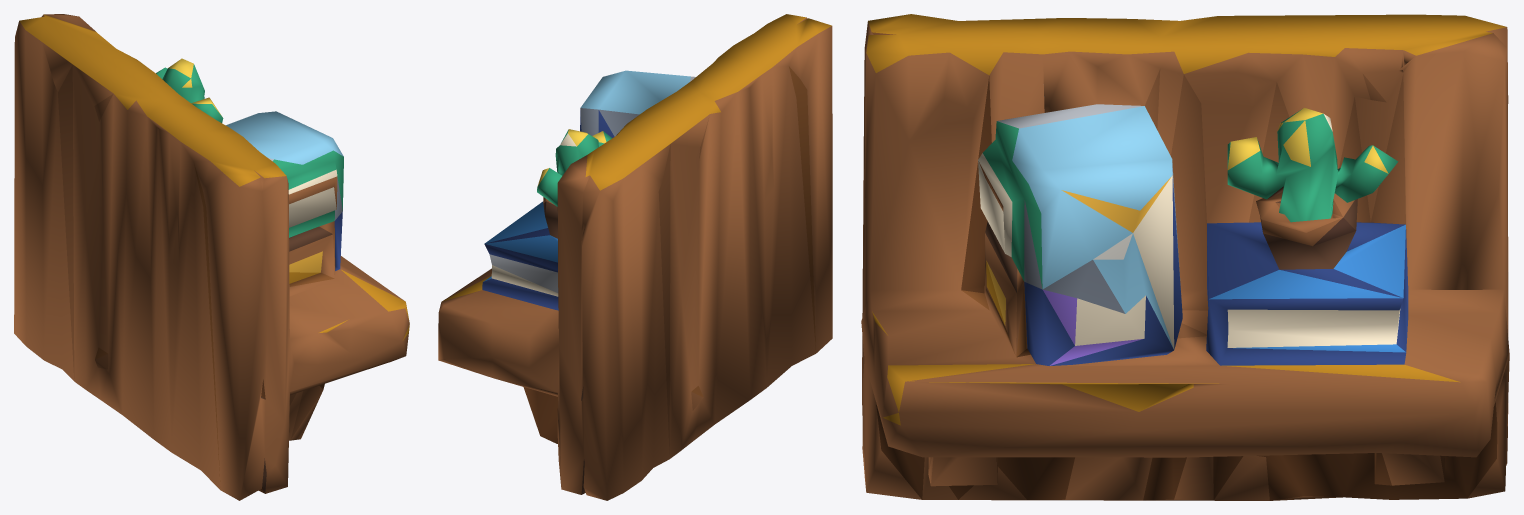
Rendered from SM_shelf_wall_books.glb.
3 renders of one model, left to right at view 1: azimuth 30°, elevation 25°; view 2: azimuth 150°, elevation 25°; view 3: azimuth 270°, elevation 25°, orthographic. The views are drawn at different scales.
Visible parts, largest first — view 1: SM_shelf_wall_books; view 2: SM_shelf_wall_books; view 3: SM_shelf_wall_books.
Boxes of the visible parts, left/top/right/bottom form: SM_shelf_wall_books: left=14, top=14, right=409, bottom=500; SM_shelf_wall_books: left=438, top=14, right=832, bottom=500; SM_shelf_wall_books: left=861, top=14, right=1509, bottom=500.
Size of the model in its own units: 0.4341 by 0.7 by 0.9108.
1 material, 1 textured.
